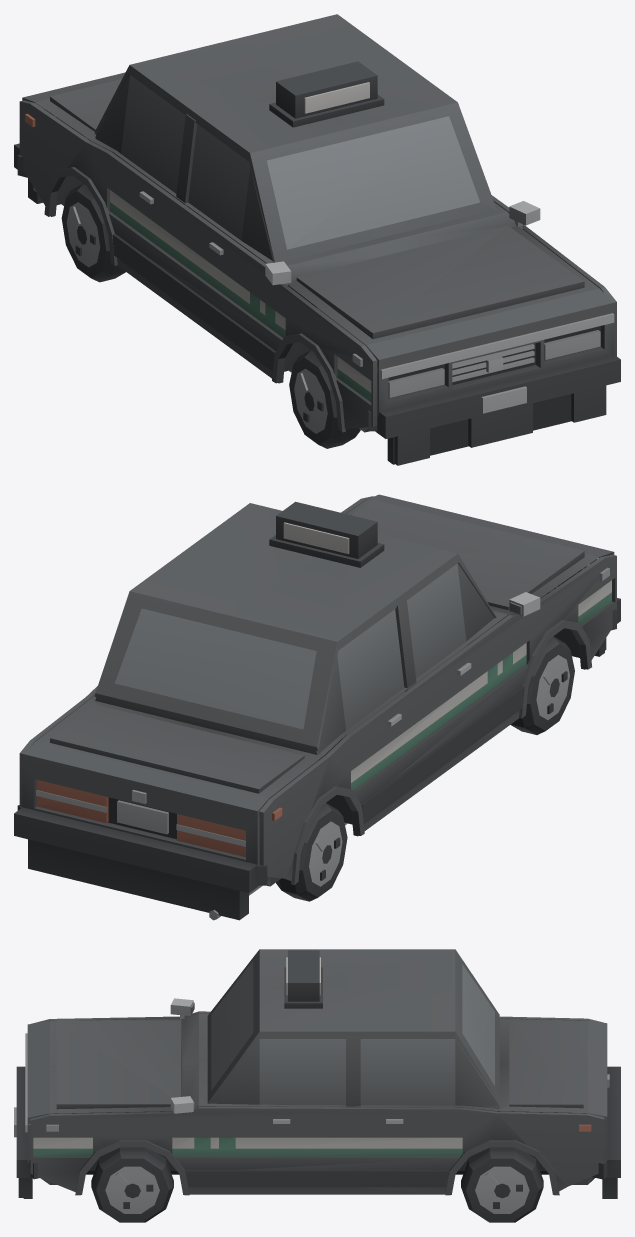
File: taxi.glb
The picture shows the model from 3 angles, top to bottom: view 1: azimuth 30°, elevation 25°; view 2: azimuth 150°, elevation 25°; view 3: azimuth 270°, elevation 25°; orthographic projection. The views are drawn at different scales.
Parts seen in each view (by area): view 1: taxi; view 2: taxi; view 3: taxi.
Boxes of the visible parts, box(x1,y1,x2,y2) form: taxi: box(14, 14, 620, 465); taxi: box(14, 494, 620, 920); taxi: box(14, 949, 620, 1222).
Size of the model in its own units: 1.82 by 1.69 by 4.4.
